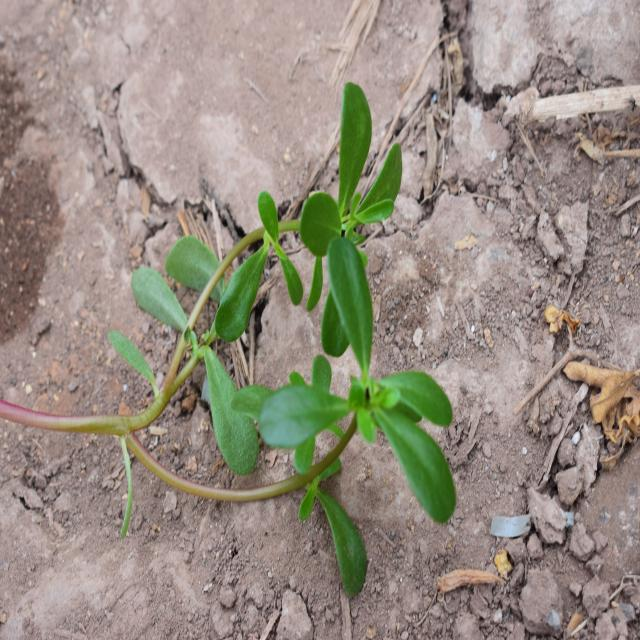purslane: (130, 72, 489, 604)
